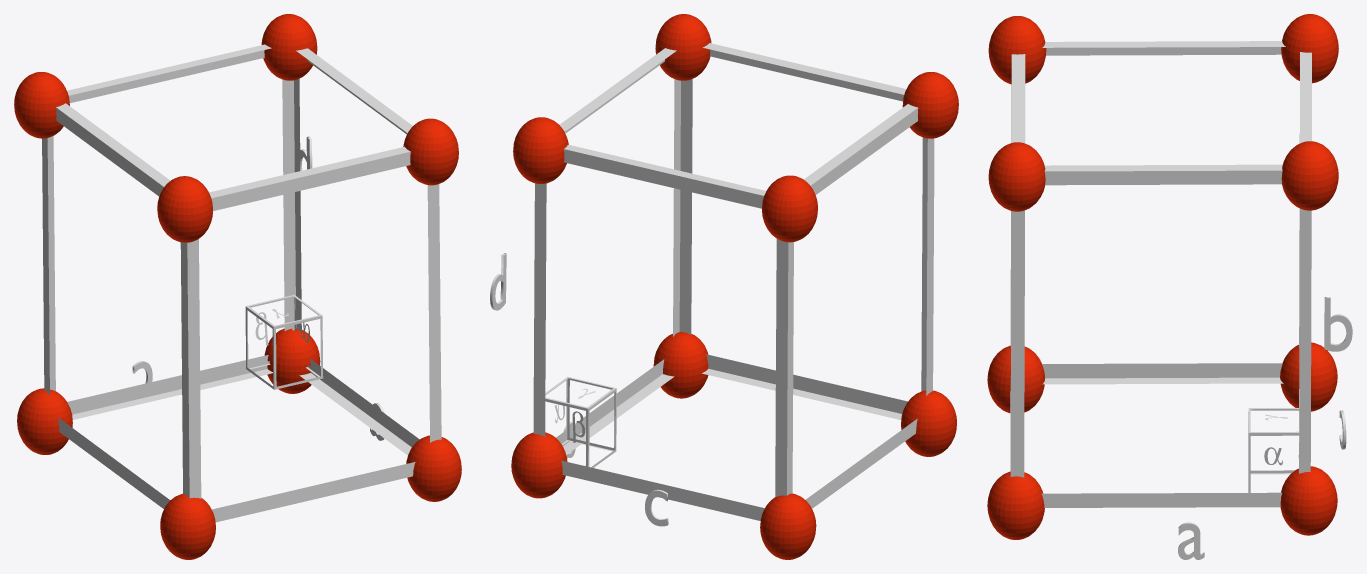
Rendered from quadratique.fbx.
3 renders of one model, left to right at view 1: azimuth 30°, elevation 25°; view 2: azimuth 150°, elevation 25°; view 3: azimuth 270°, elevation 25°, orthographic. The views are drawn at different scales.
Parts seen in each view (by area): view 1: Text.003; view 2: Text.003; view 3: Text.003.
Boxes of the visible parts, x1,y1,x2,y2 form: Text.003: (14,14,461,559); Text.003: (490,14,958,559); Text.003: (987,14,1352,559).
Bounding box in the file's own units: 862 × 1058 × 869.
